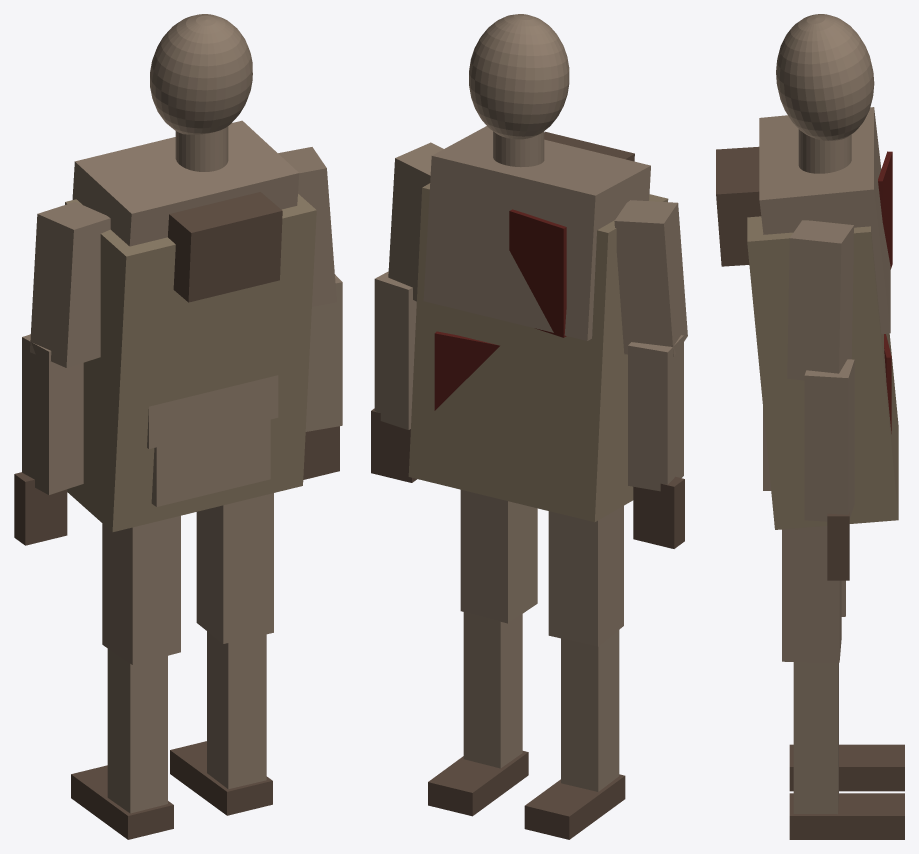
The model's file is enemy_hospede_seco_blockout.glb.
3 renders of one model, left to right at view 1: azimuth 30°, elevation 25°; view 2: azimuth 150°, elevation 25°; view 3: azimuth 270°, elevation 25°, orthographic. The views are drawn at different scales.
Visible parts, largest first — view 1: cloth_tunic, body_torso_upper, leg_upper_L, leg_upper_R, arm_upper_L, body_head, body_back_hump, leg_lower_L, leg_lower_R, arm_lower_L, body_pelvis, body_torso_lower (+7 smaller); view 2: cloth_tunic, body_torso_upper, body_head, leg_upper_L, arm_upper_L, leg_upper_R, leg_lower_R, leg_lower_L, arm_lower_L, arm_lower_R, blood_chest_stain_01, arm_upper_R (+7 smaller); view 3: cloth_tunic, body_torso_upper, body_head, arm_upper_R, arm_lower_R, leg_upper_R, leg_lower_R, foot_R, body_back_hump, foot_L, body_neck, hand_R (+2 smaller).
Part boxes in pixels (<box>): cloth_tunic: <box>65,194,316,532</box>; body_torso_upper: <box>72,120,299,246</box>; leg_upper_L: <box>102,515,180,664</box>; leg_upper_R: <box>196,493,273,643</box>; arm_upper_L: <box>30,202,110,367</box>; body_head: <box>150,14,252,134</box>; body_back_hump: <box>168,192,282,302</box>; leg_lower_L: <box>107,648,167,813</box>; leg_lower_R: <box>207,631,266,789</box>; arm_lower_L: <box>22,334,83,494</box>; body_pelvis: <box>151,415,270,506</box>; body_torso_lower: <box>147,375,278,448</box>; cloth_tunic: <box>408,183,668,522</box>; body_torso_upper: <box>423,126,650,340</box>; body_head: <box>469,14,569,139</box>; leg_upper_L: <box>548,506,623,646</box>; arm_upper_L: <box>614,200,687,356</box>; leg_upper_R: <box>460,490,537,623</box>; leg_lower_R: <box>463,612,522,768</box>; leg_lower_L: <box>561,630,619,791</box>; arm_lower_L: <box>628,335,683,491</box>; arm_lower_R: <box>374,271,416,429</box>; blood_chest_stain_01: <box>509,209,566,337</box>; arm_upper_R: <box>388,142,443,301</box>; cloth_tunic: <box>747,216,898,529</box>; body_torso_upper: <box>759,107,890,334</box>; body_head: <box>776,14,874,140</box>; arm_upper_R: <box>787,220,854,380</box>; arm_lower_R: <box>804,359,854,521</box>; leg_upper_R: <box>782,526,841,662</box>; leg_lower_R: <box>793,662,838,814</box>; foot_R: <box>789,793,904,839</box>; body_back_hump: <box>716,146,761,266</box>; foot_L: <box>789,744,904,791</box>; body_neck: <box>798,129,851,173</box>; hand_R: <box>827,512,849,580</box>.
Size of the model in its own units: 0.82 by 1.98 by 0.4261.
